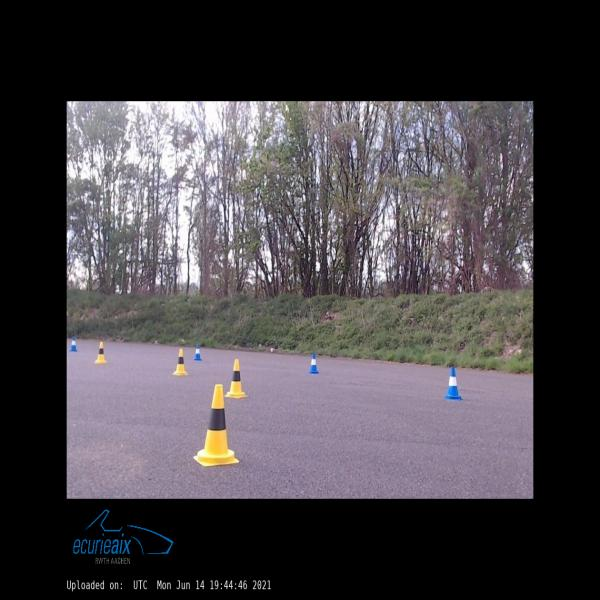blue_cone: (445, 367, 462, 400), (309, 353, 319, 374), (193, 343, 202, 360), (70, 336, 78, 352)
yellow_cone: (194, 385, 239, 466), (224, 359, 248, 398), (172, 349, 188, 375), (94, 341, 106, 363)
